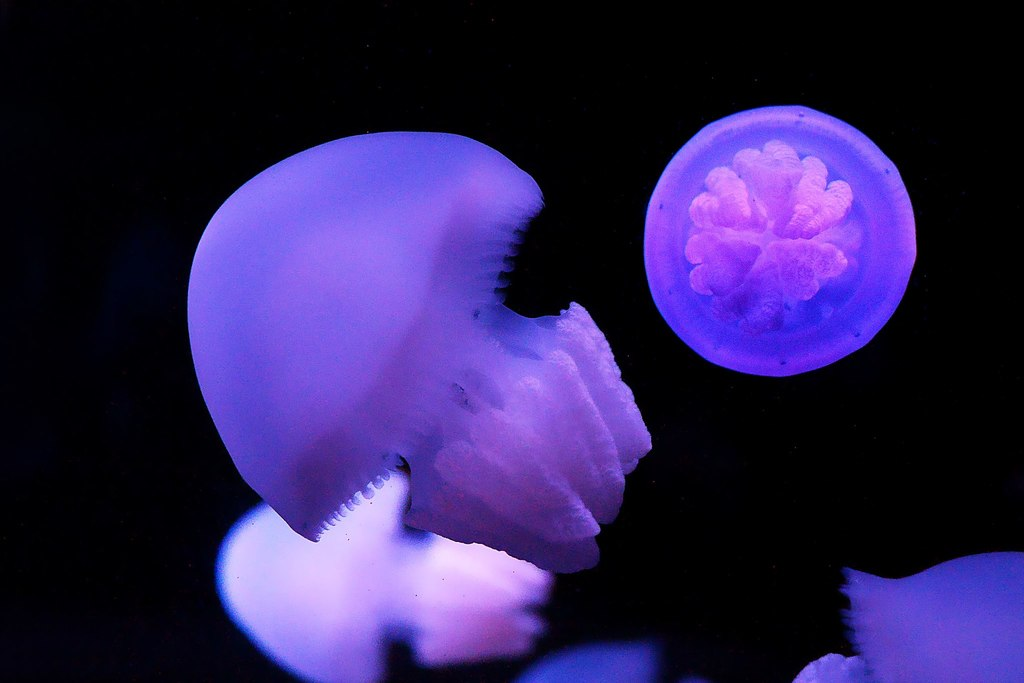Jellyfish: (215, 133, 657, 545), (645, 103, 914, 379), (218, 473, 545, 682), (787, 551, 1023, 682)
